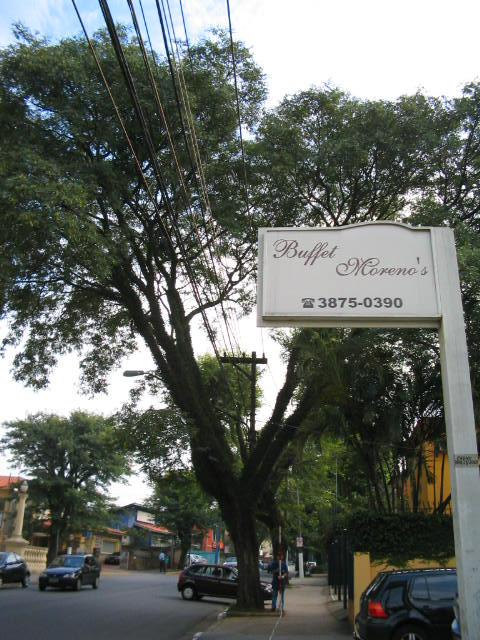crown: (1, 14, 478, 405), (4, 409, 139, 530), (147, 468, 211, 540)
stem: (207, 501, 274, 609), (38, 531, 63, 574), (174, 542, 193, 571)
stick: (274, 506, 285, 616)
tree: (1, 14, 478, 610), (4, 410, 139, 572), (145, 467, 212, 573)
